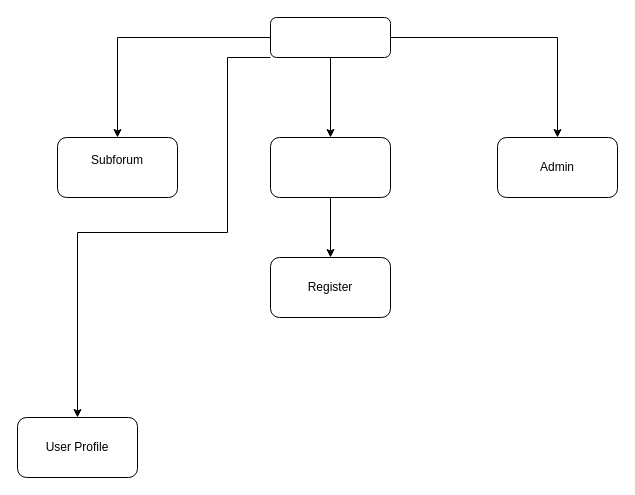
Some shapes in this 635 by 495 pixel diagram are drawn without their labels. The shapes that lost their labels are listed below. From the top down, each one's centre as x and y in pixels, then its label:
At point 330,37: "Home".
At point 330,167: "Login".
